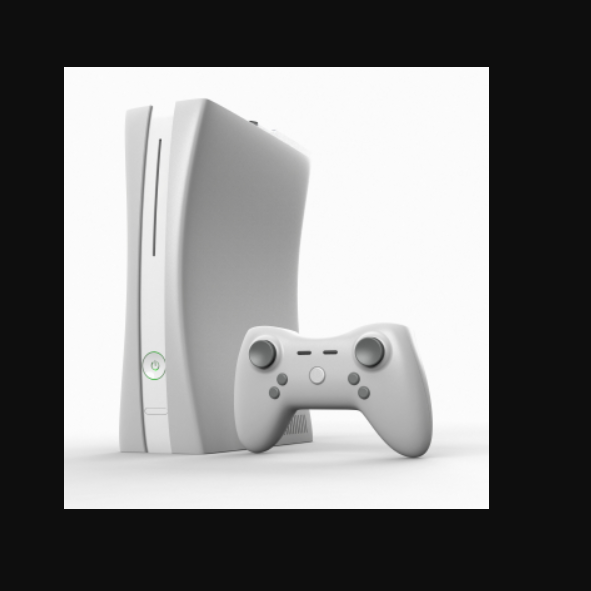gamingconsole: (236, 324, 431, 455)
